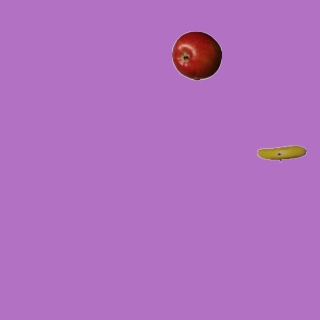Apple Braeburn: (171, 30, 221, 80)
Banana: (256, 128, 306, 178)
